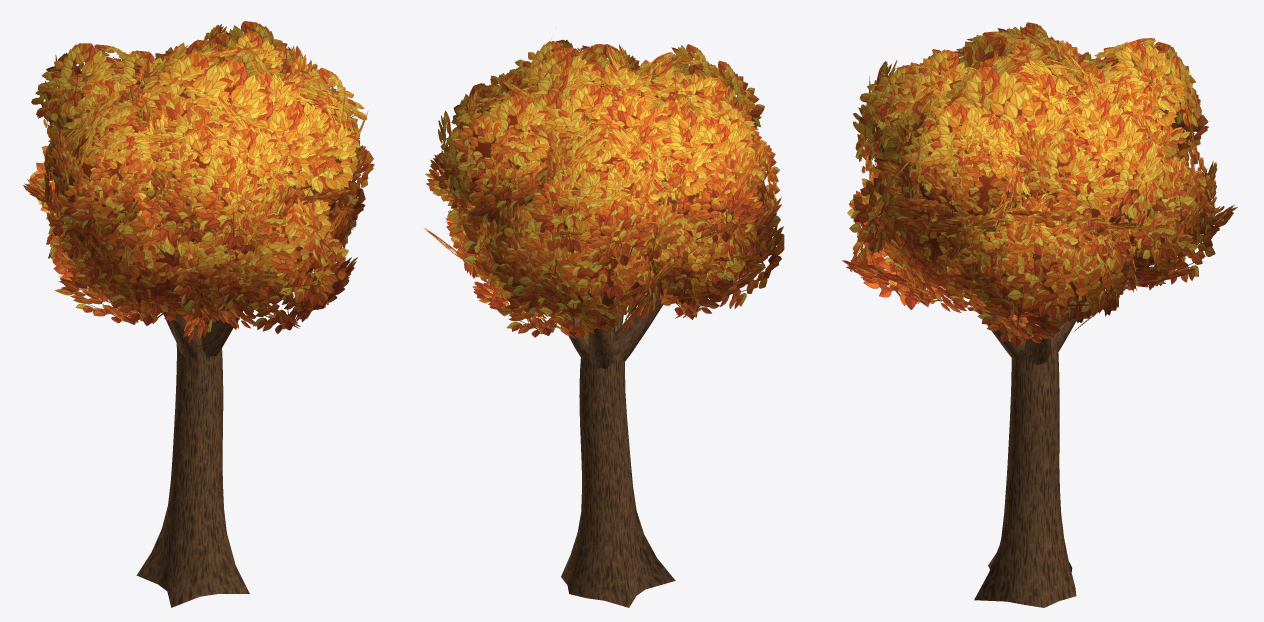
The model's file is autumn_leafy_tree.glb.
3 views of the same model, side by side, from view 1: azimuth 30°, elevation 25°; view 2: azimuth 150°, elevation 25°; view 3: azimuth 270°, elevation 25° (orthographic). The views are drawn at different scales.
Visible parts, largest first — view 1: autumn_leafy_tree; view 2: autumn_leafy_tree; view 3: autumn_leafy_tree.
Part boxes in pixels (x1=…): autumn_leafy_tree: x1=23, y1=21, x2=374, y2=607; autumn_leafy_tree: x1=424, y1=39, x2=784, y2=607; autumn_leafy_tree: x1=842, y1=22, x2=1237, y2=607.
Size of the model in its own units: 5.83 by 8.96 by 6.22.
Materials: 3 (2 with a texture image).
